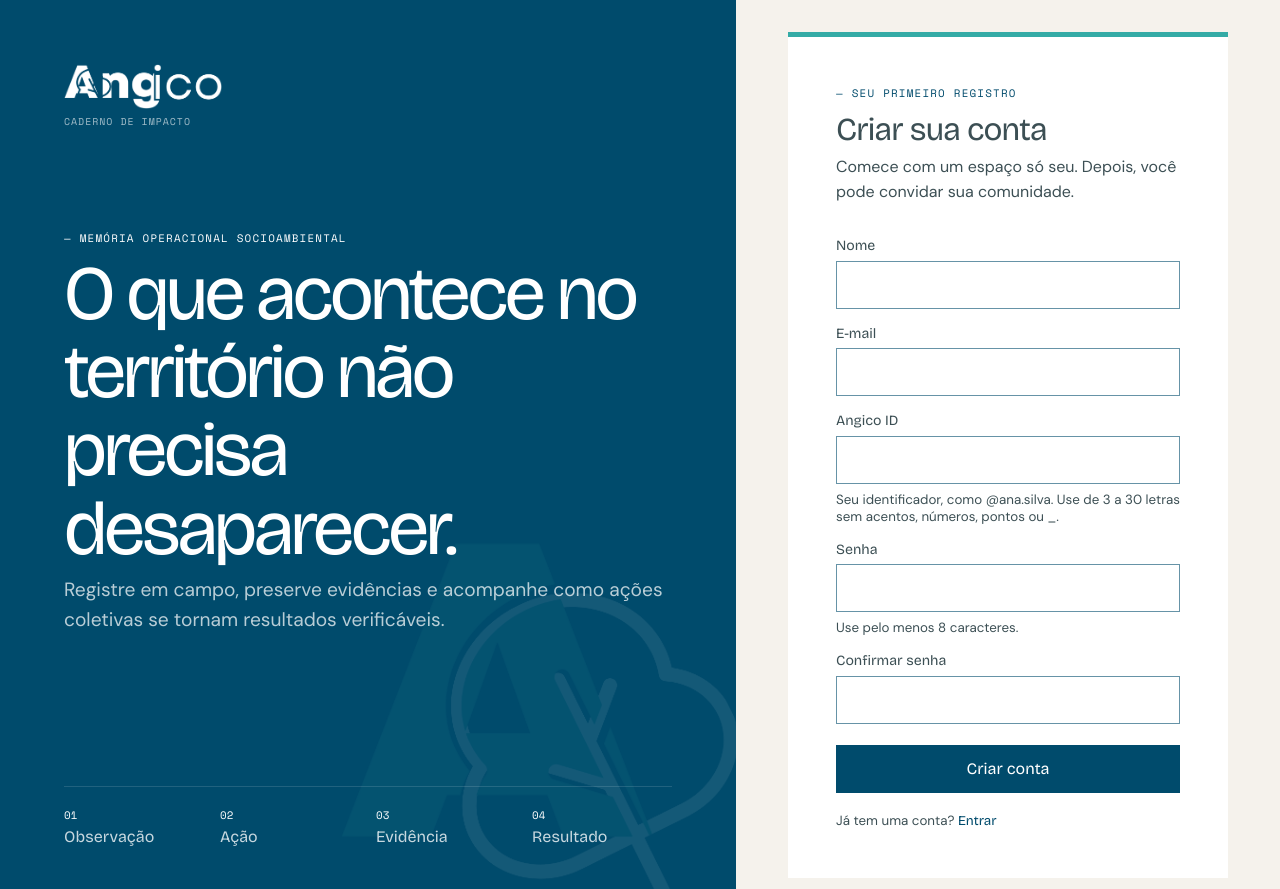
LoginPage › shows a duplicate-account error without entering the app or losing the filled fields
Type " Ana Silva " into the field labelled "Nome".
click(1008, 284); type(" Ana Silva ")  # box [836,260,1180,308]
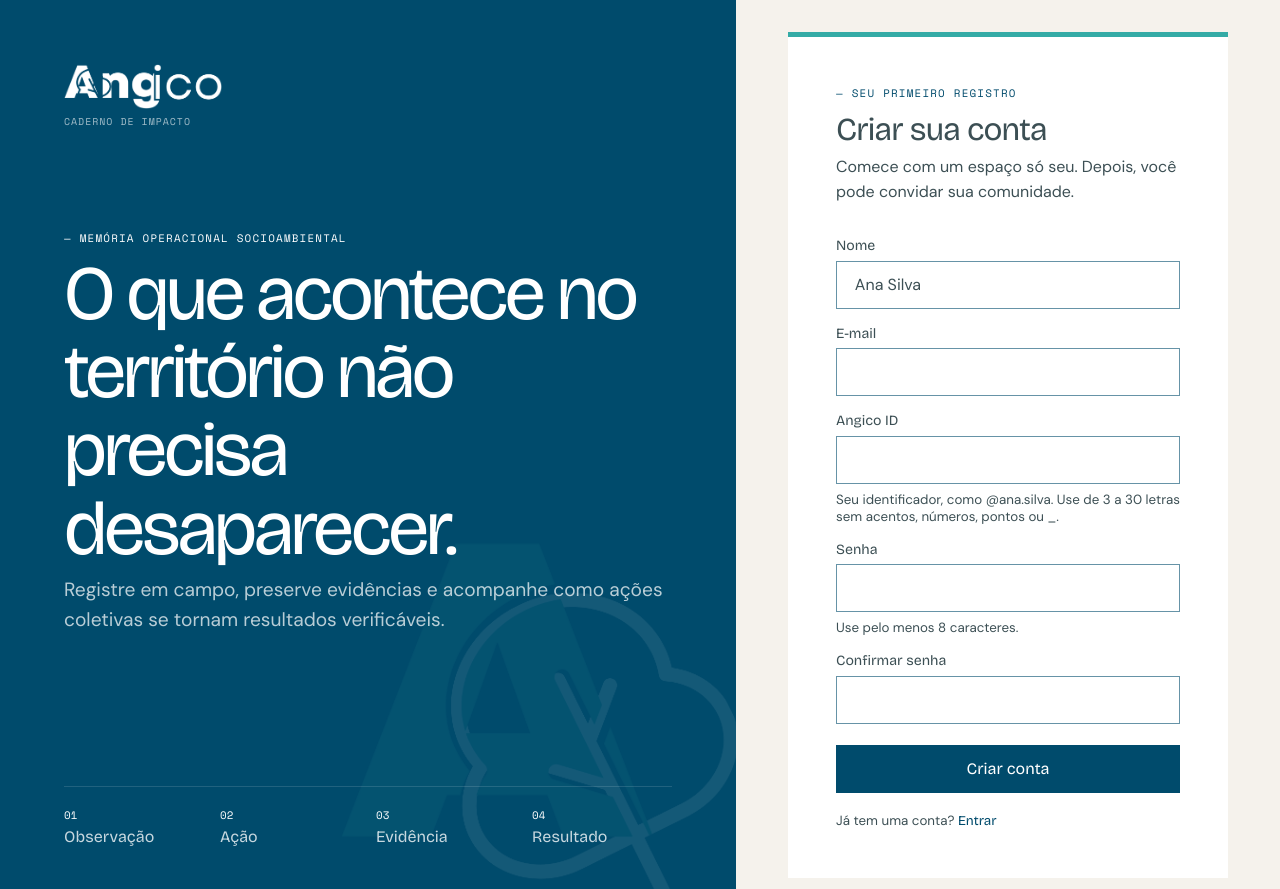
Type "ana@example.test" into the field labelled "E-mail".
click(1008, 372); type("ana@example.test")  # box [836,348,1180,396]
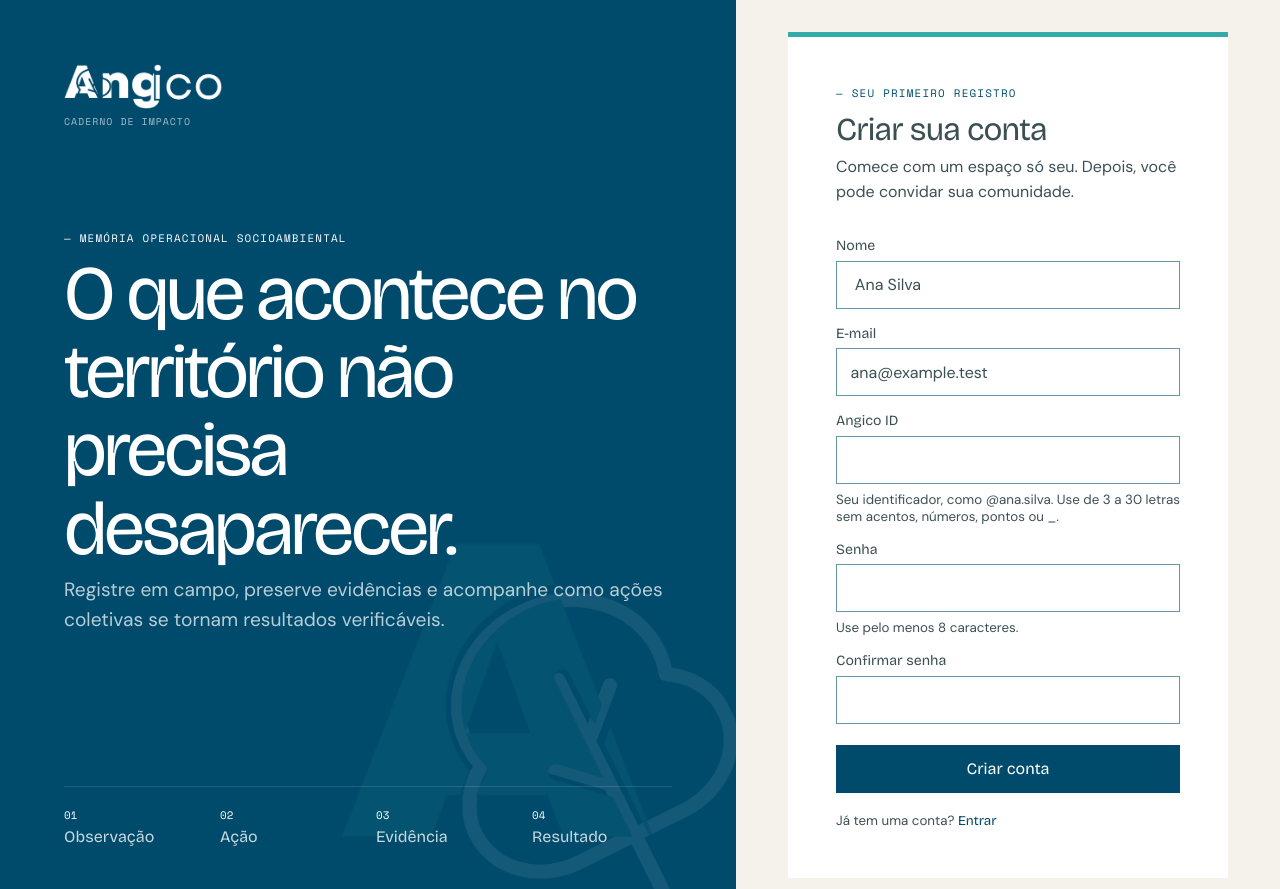
Type "@Ana.Silva" into the field labelled "Angico ID".
click(1008, 460); type("@Ana.Silva")  # box [836,436,1180,484]
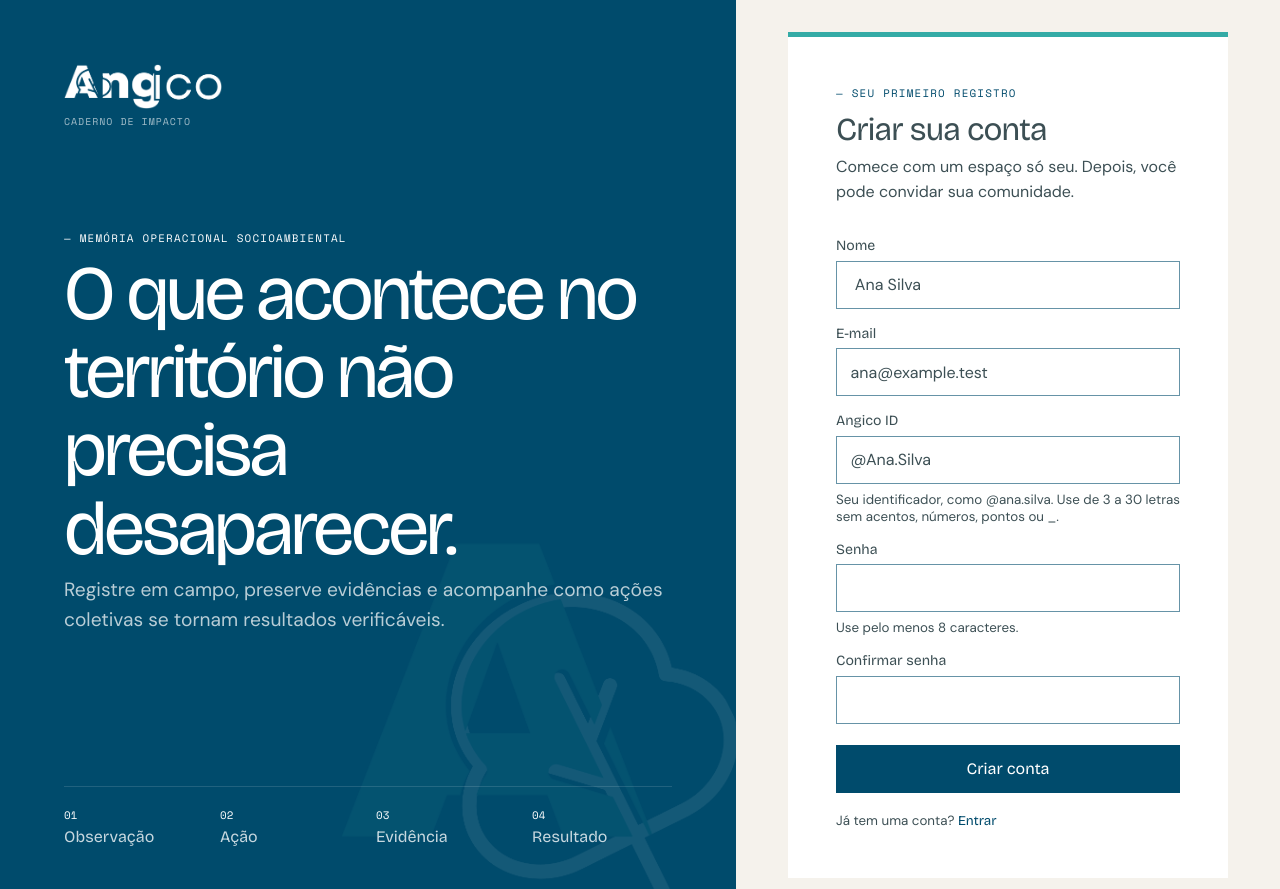
Type "senha-de-teste" into the password field labelled "Senha".
click(1008, 588); type("senha-de-teste")  # box [836,564,1180,612]
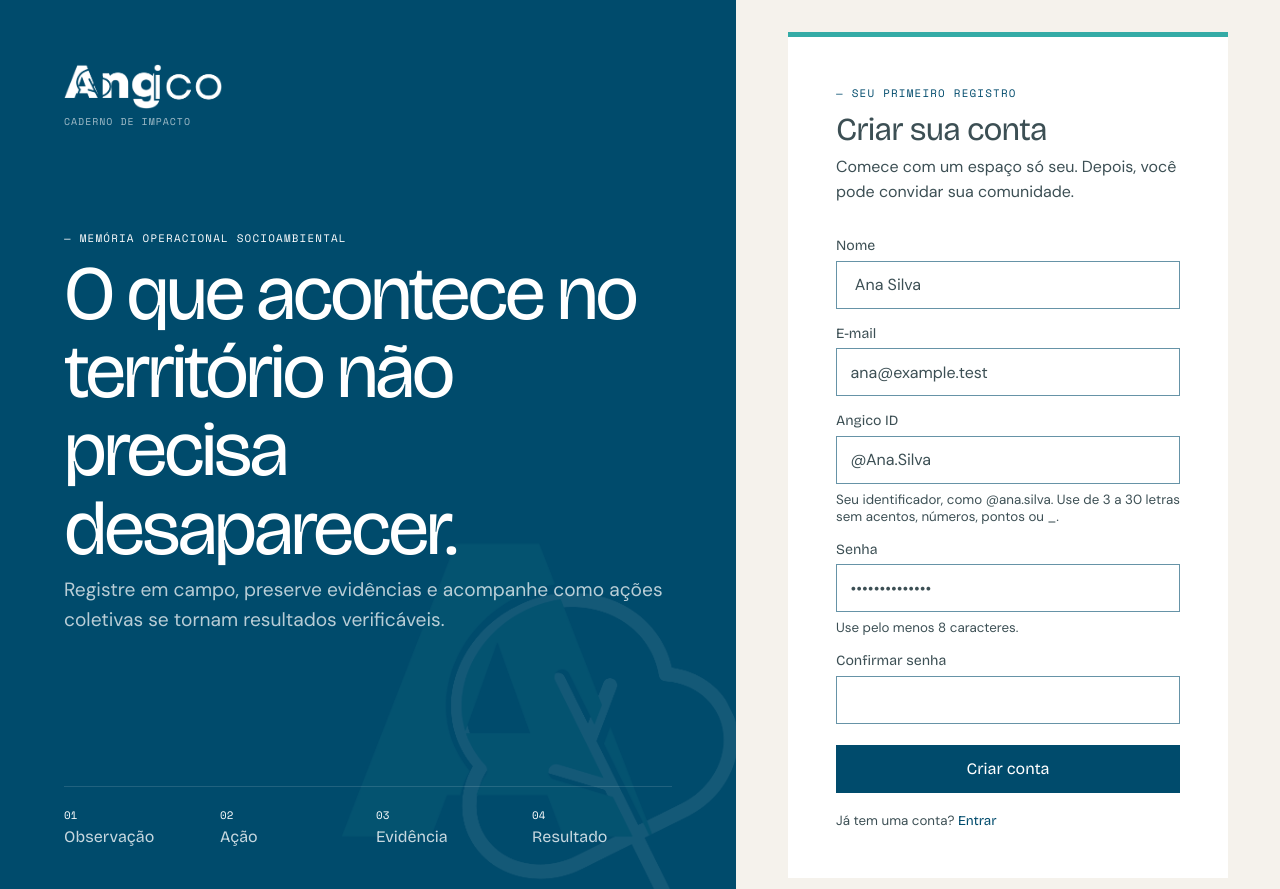
Type "senha-de-teste" into the password field labelled "Confirmar senha".
click(1008, 700); type("senha-de-teste")  # box [836,676,1180,724]
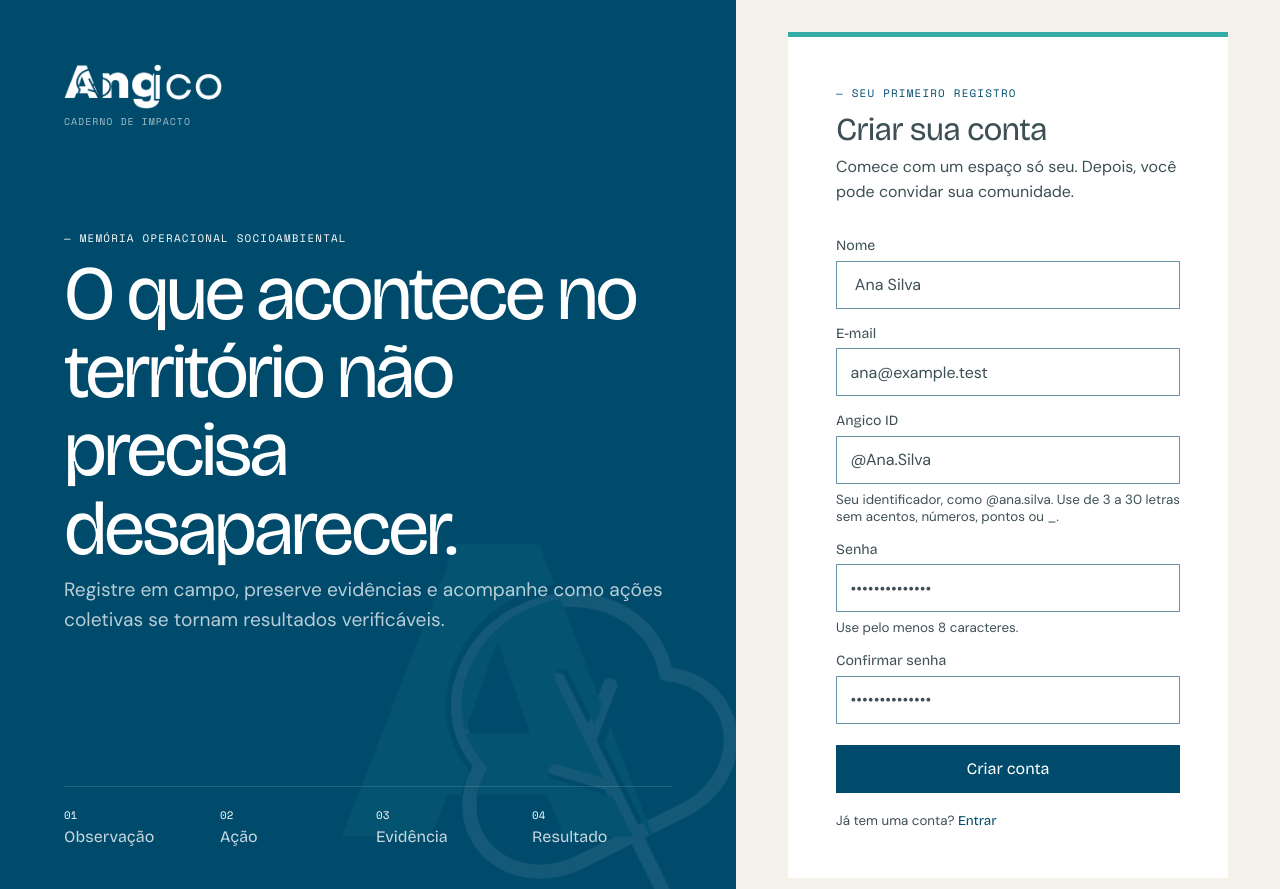
Click the button "Criar conta".
click(1008, 769)  # box [836,745,1180,793]
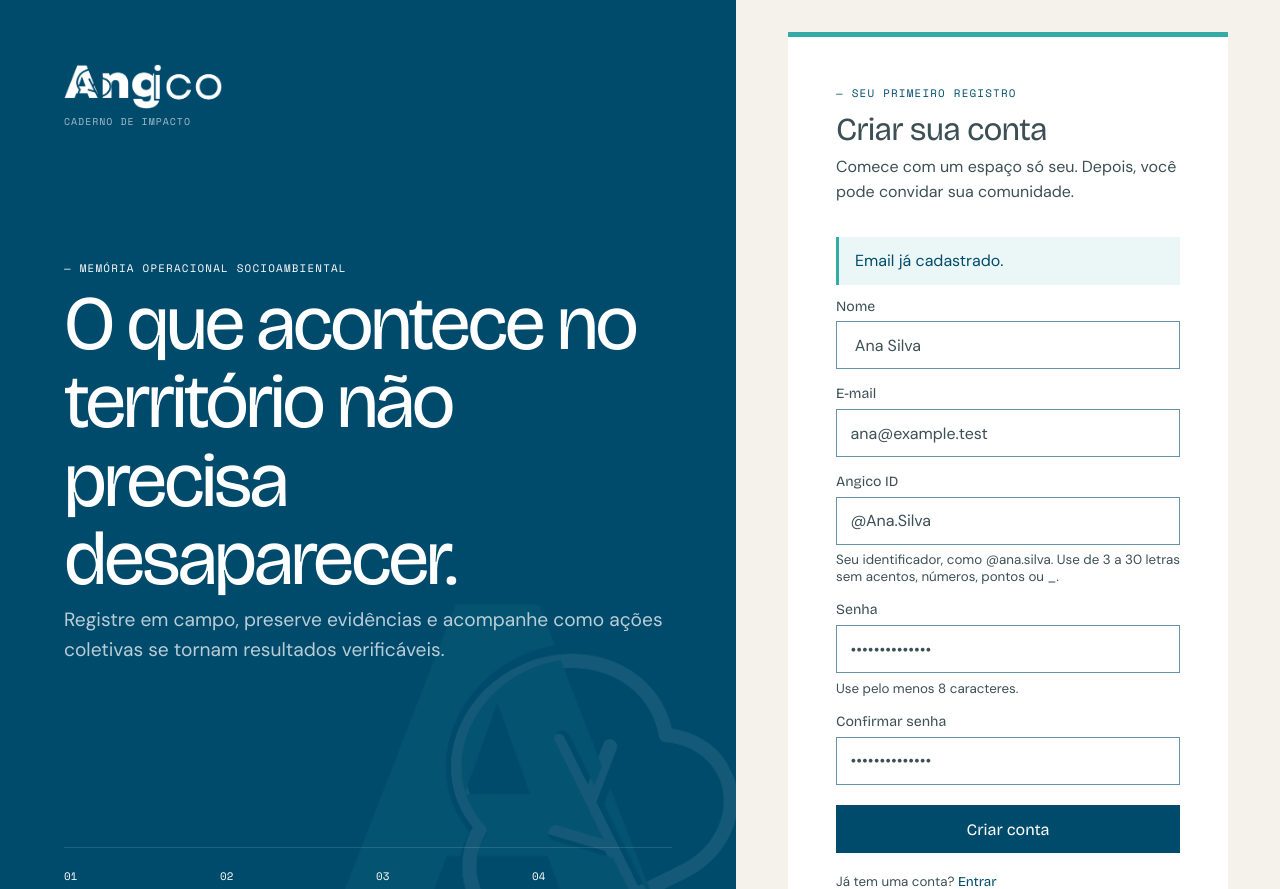
Expected: the button "Criar conta" is enabled, [836,805,1180,853]
Expected: the message reads "Email já cadastrado.", [855,250,1003,271]
